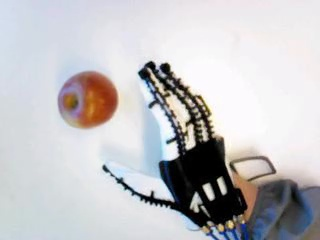apple: (58, 71, 118, 130)
hand: (101, 63, 248, 234)
